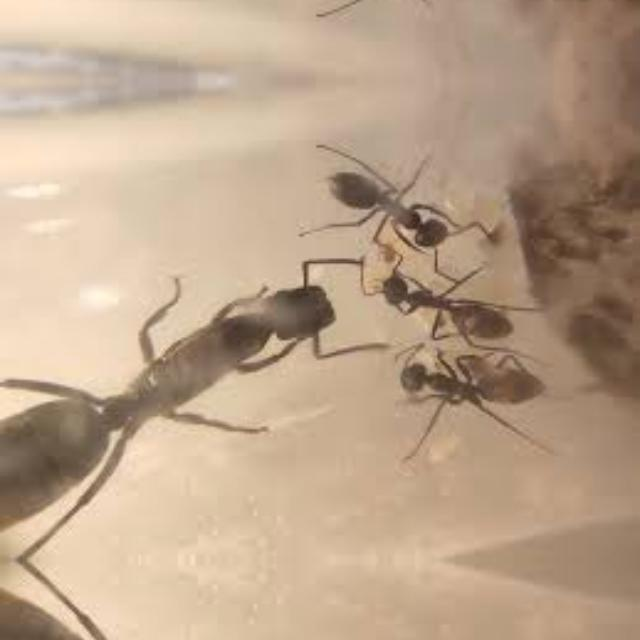Colobopsis: (0, 230, 392, 530), (306, 138, 479, 262), (382, 336, 566, 428), (371, 254, 519, 344)
